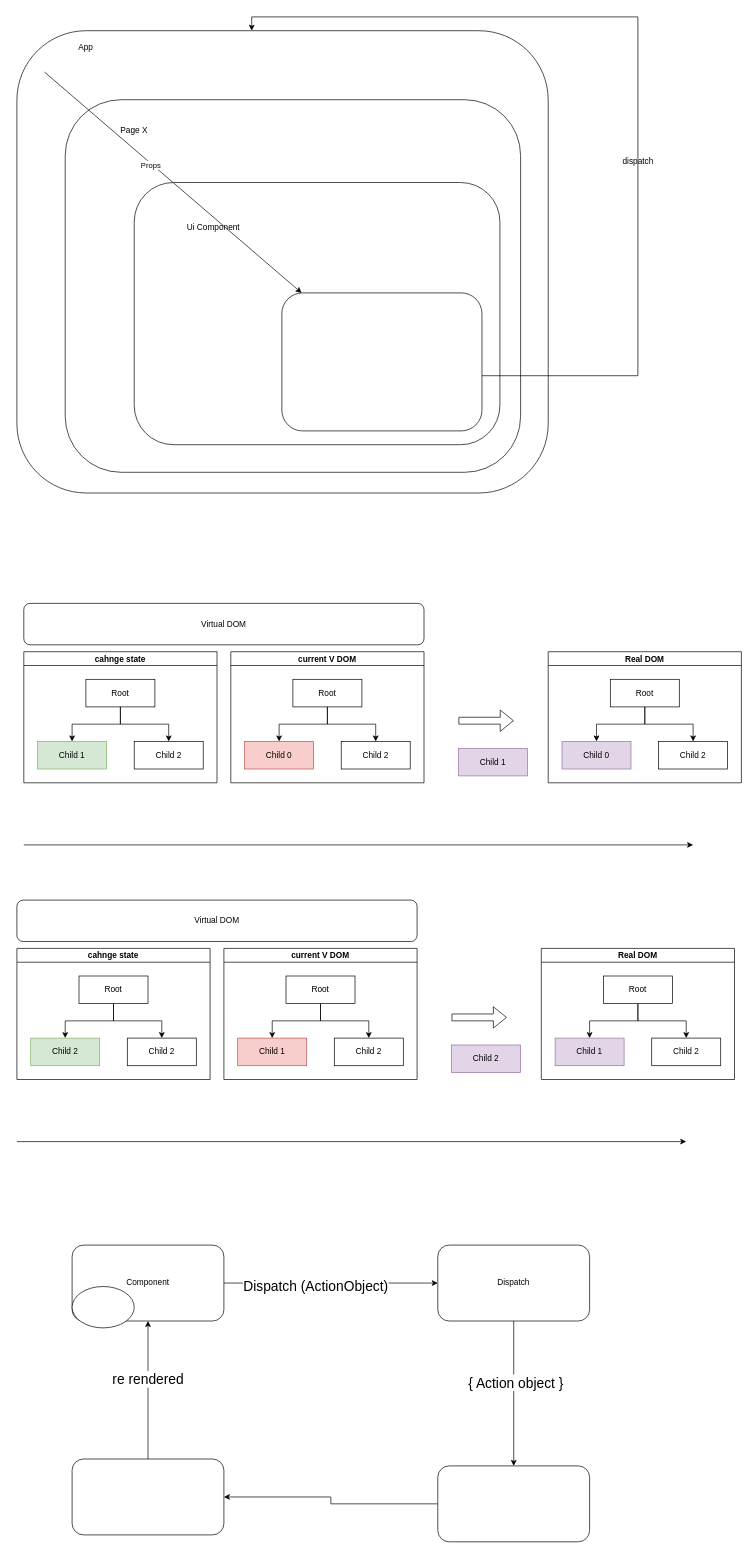
Some shapes in this 753 by 1554 pixel diagram are drawn without their labels. The shapes that lost their labels are listed below. From the top down, each one's centre as x and y in pixels, then its label:
At (102,1307): "Event handler".
At (147,1496): "State".
At (513,1503): "Reducer".
